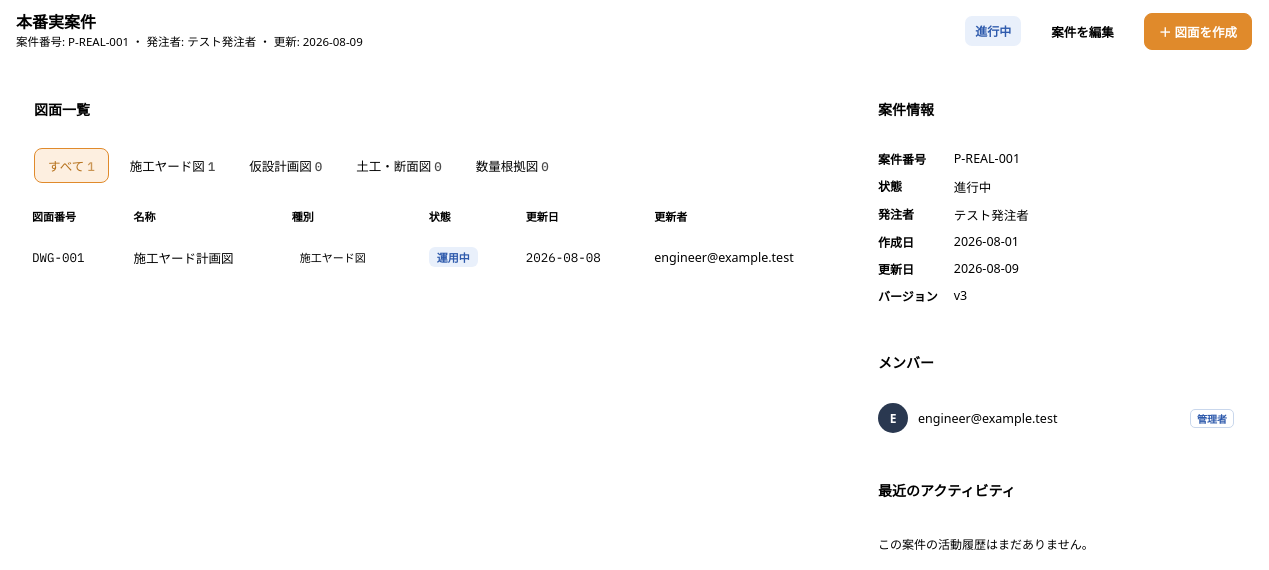
ProjectDetailPage / 実データ版（Issue #62） › API から実案件・図面・メンバーを取得して表示する
The width and height of the screenshot is (1269, 570).
Check: the text "本番実案件" is shown, box [16, 11, 96, 33]
Check: the button "施工ヤード計画図" is shown, box [133, 248, 233, 266]
Click the text "DWG-001" at (67, 257), box [16, 235, 117, 279]
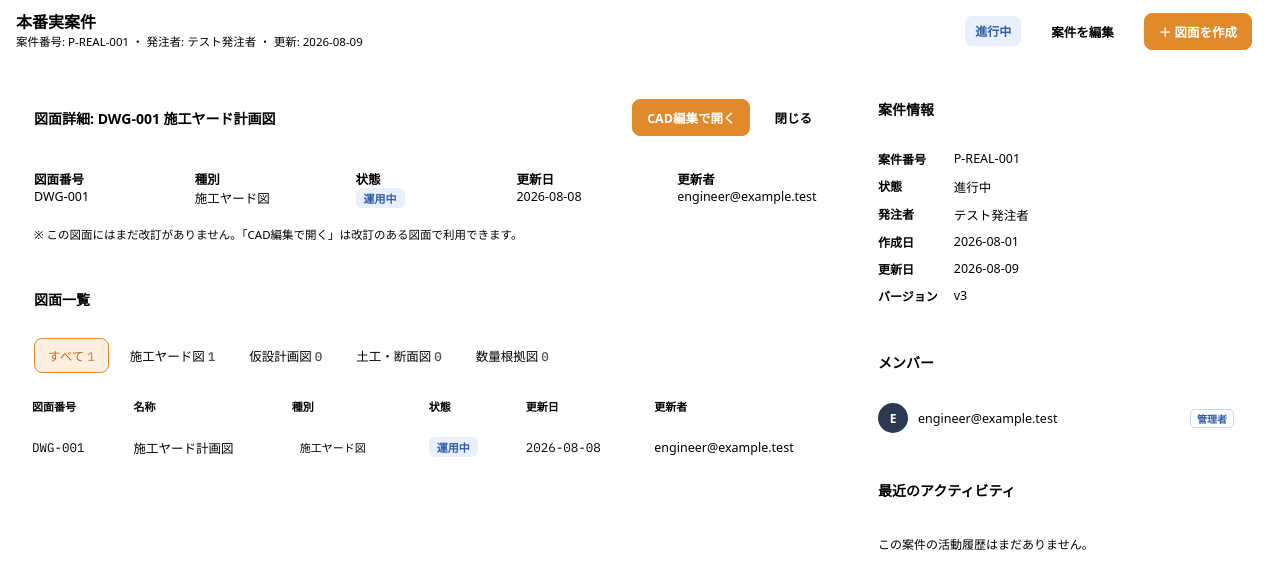
Check: the button "CAD編集で開く" is disabled, box [632, 99, 750, 136]
